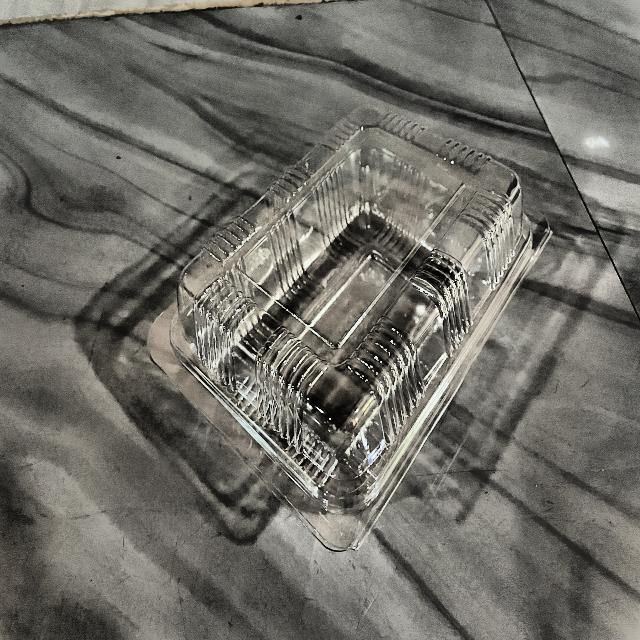plastic container: (135, 91, 560, 572)
